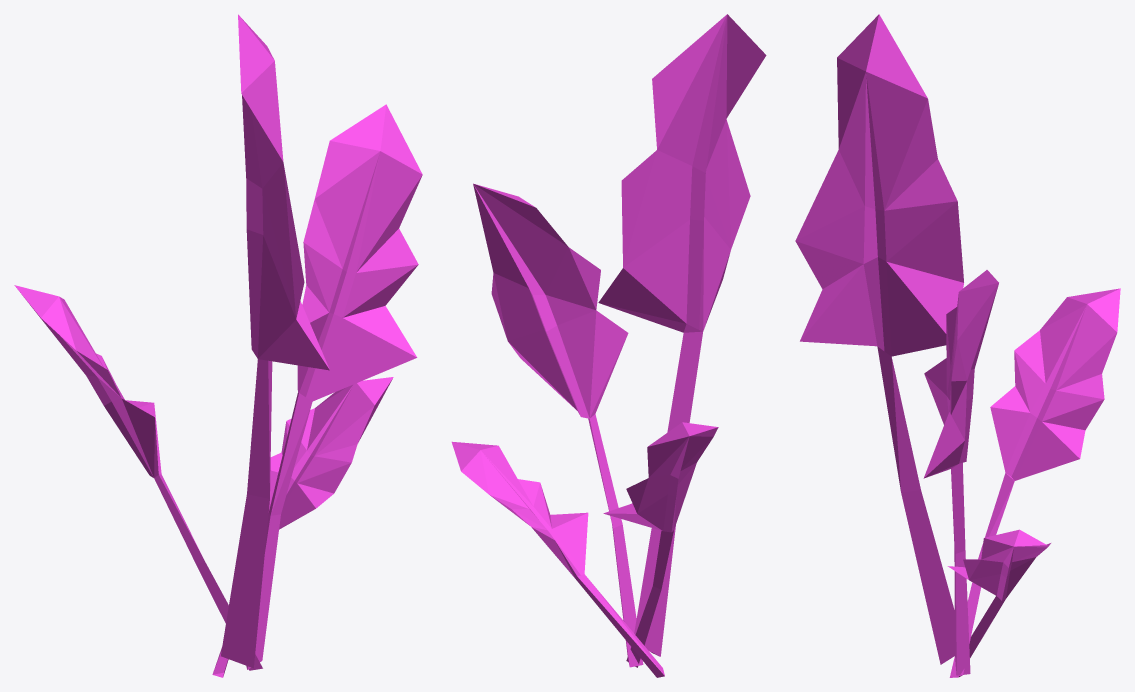
Rendered from SM_Beetroot_Plant_Young.fbx.
3 renders of one model, left to right at view 1: azimuth 30°, elevation 25°; view 2: azimuth 150°, elevation 25°; view 3: azimuth 270°, elevation 25°, orthographic. The views are drawn at different scales.
Visible parts, largest first — view 1: SM_Beetroot_Plant_Young; view 2: SM_Beetroot_Plant_Young; view 3: SM_Beetroot_Plant_Young.
Part boxes in pixels (x1,y1,x2,y2): SM_Beetroot_Plant_Young: [14, 14, 422, 677]; SM_Beetroot_Plant_Young: [451, 14, 766, 677]; SM_Beetroot_Plant_Young: [795, 14, 1120, 677].
Bounding box in the file's own units: 0.2578 × 0.5371 × 0.2467.
